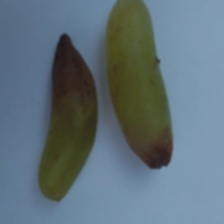grapes: (33, 7, 220, 185)
